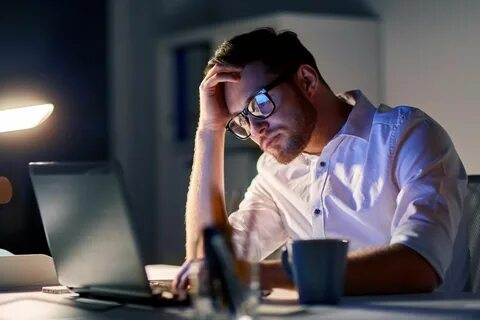awake: (172, 25, 468, 298)
